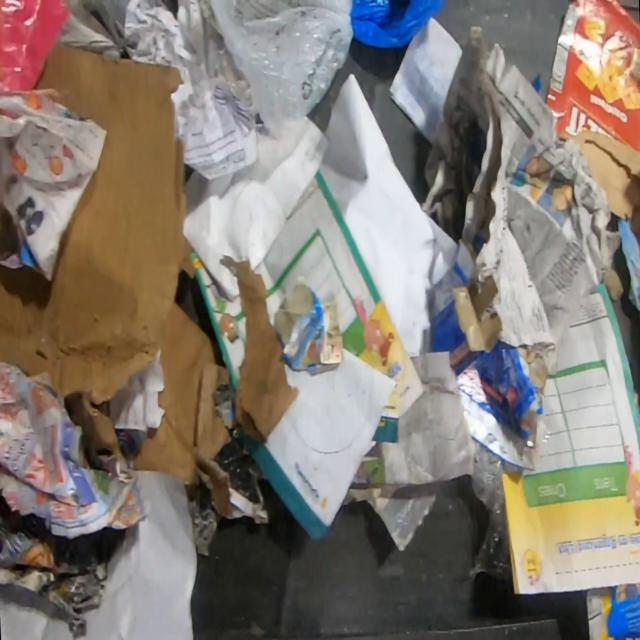cardboard: (0, 38, 198, 457), (130, 301, 236, 521), (544, 0, 640, 237), (455, 340, 548, 472), (430, 237, 502, 377), (274, 276, 343, 377), (582, 582, 640, 639)
rigid_plastic: (350, 0, 448, 51)
soft_plastic: (207, 0, 354, 138), (466, 442, 511, 584)
